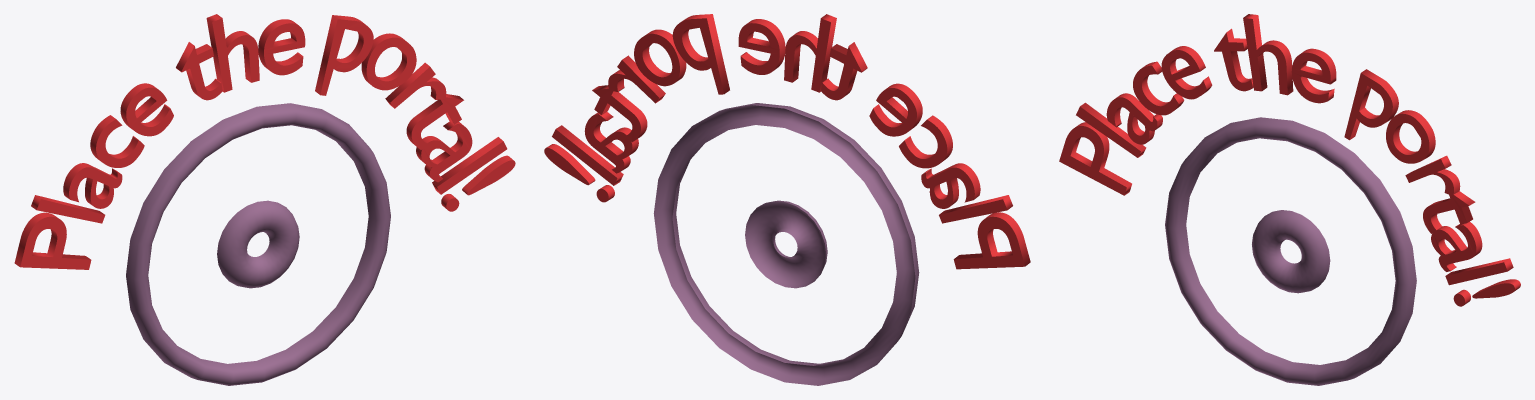
File: portalPlacer.glb
3 renders of one model, left to right at view 1: azimuth 30°, elevation 25°; view 2: azimuth 150°, elevation 25°; view 3: azimuth 330°, elevation 25°, orthographic. The views are drawn at different scales.
Visible parts, largest first — view 1: PortalPlacementText, Marker; view 2: PortalPlacementText, Marker; view 3: PortalPlacementText, Marker.
Part boxes in pixels (x1=…): PortalPlacementText: x1=14, y1=14, x2=515, y2=269; Marker: x1=126, y1=103, x2=390, y2=385; PortalPlacementText: x1=544, y1=14, x2=1030, y2=269; Marker: x1=653, y1=103, x2=919, y2=385; PortalPlacementText: x1=1059, y1=14, x2=1520, y2=306; Marker: x1=1165, y1=117, x2=1416, y2=385.
Bounding box in the file's own units: 0.5895 × 0.4319 × 0.0302.
